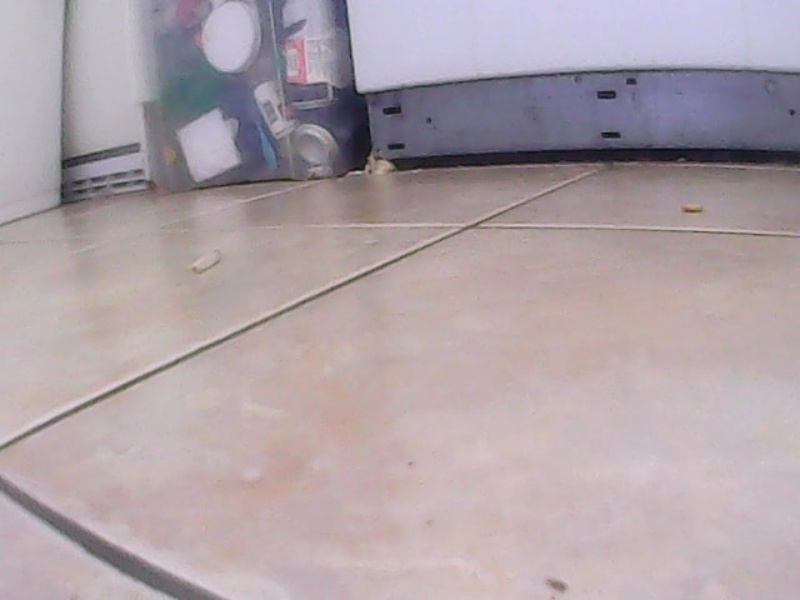cig: (189, 243, 226, 282), (678, 198, 705, 217)
